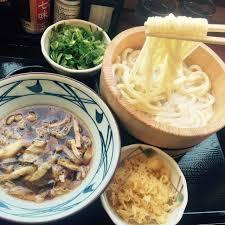kamaage: (93, 9, 225, 158)
